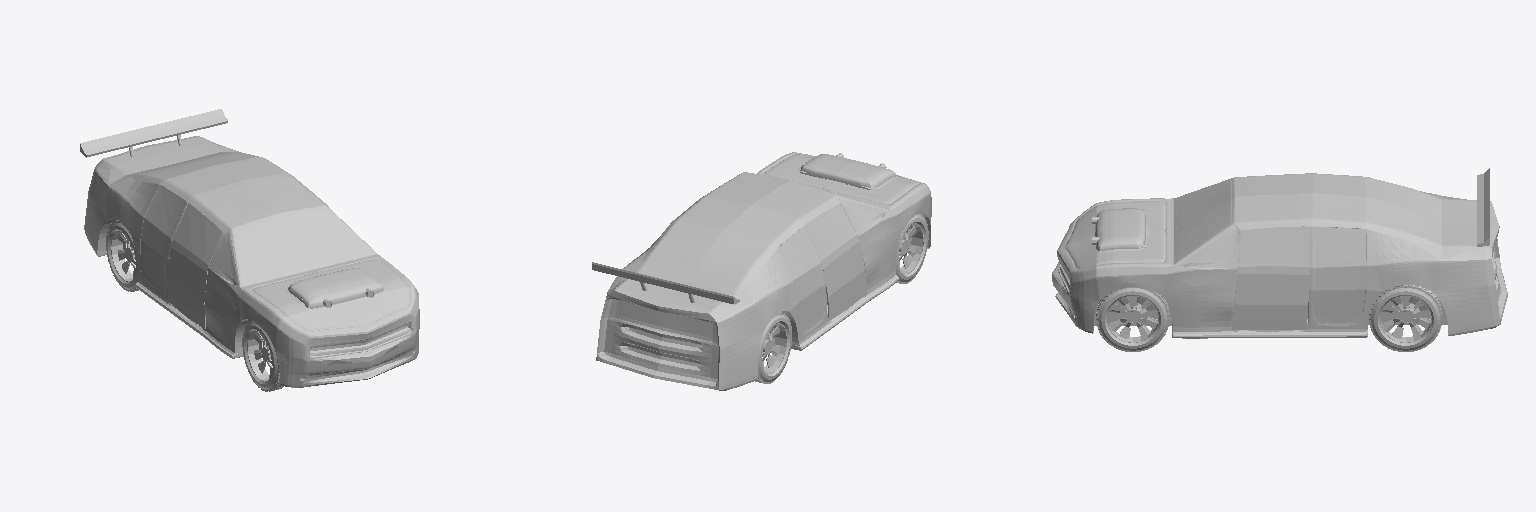
The model's file is Car_Modeling.obj.
The picture shows the model from 3 angles: view 1: azimuth 30°, elevation 25°; view 2: azimuth 150°, elevation 25°; view 3: azimuth 270°, elevation 25°; orthographic projection.
Parts seen in each view (by area): view 1: Car_Modeling; view 2: Car_Modeling; view 3: Car_Modeling.
Boxes of the visible parts, <box> form: Car_Modeling: <box>80,109,419,391</box>; Car_Modeling: <box>592,152,931,390</box>; Car_Modeling: <box>1052,168,1507,351</box>.
Size of the model in its own units: 3.29 by 2.5 by 8.24.